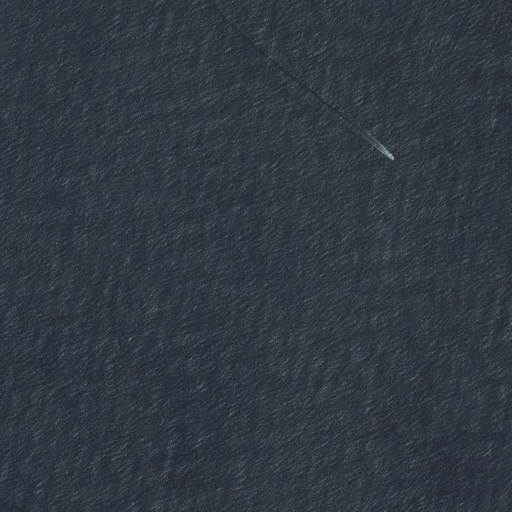ship: (377, 143, 398, 163)
